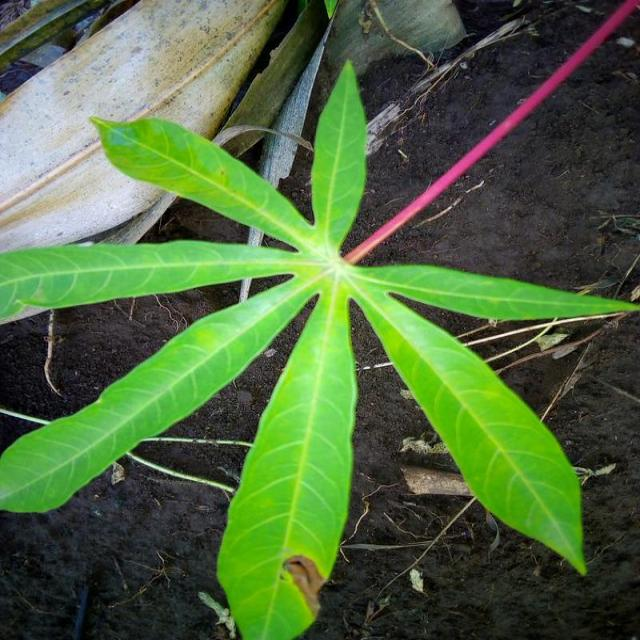cassava leaf: (0, 55, 638, 637), (215, 278, 358, 638)
